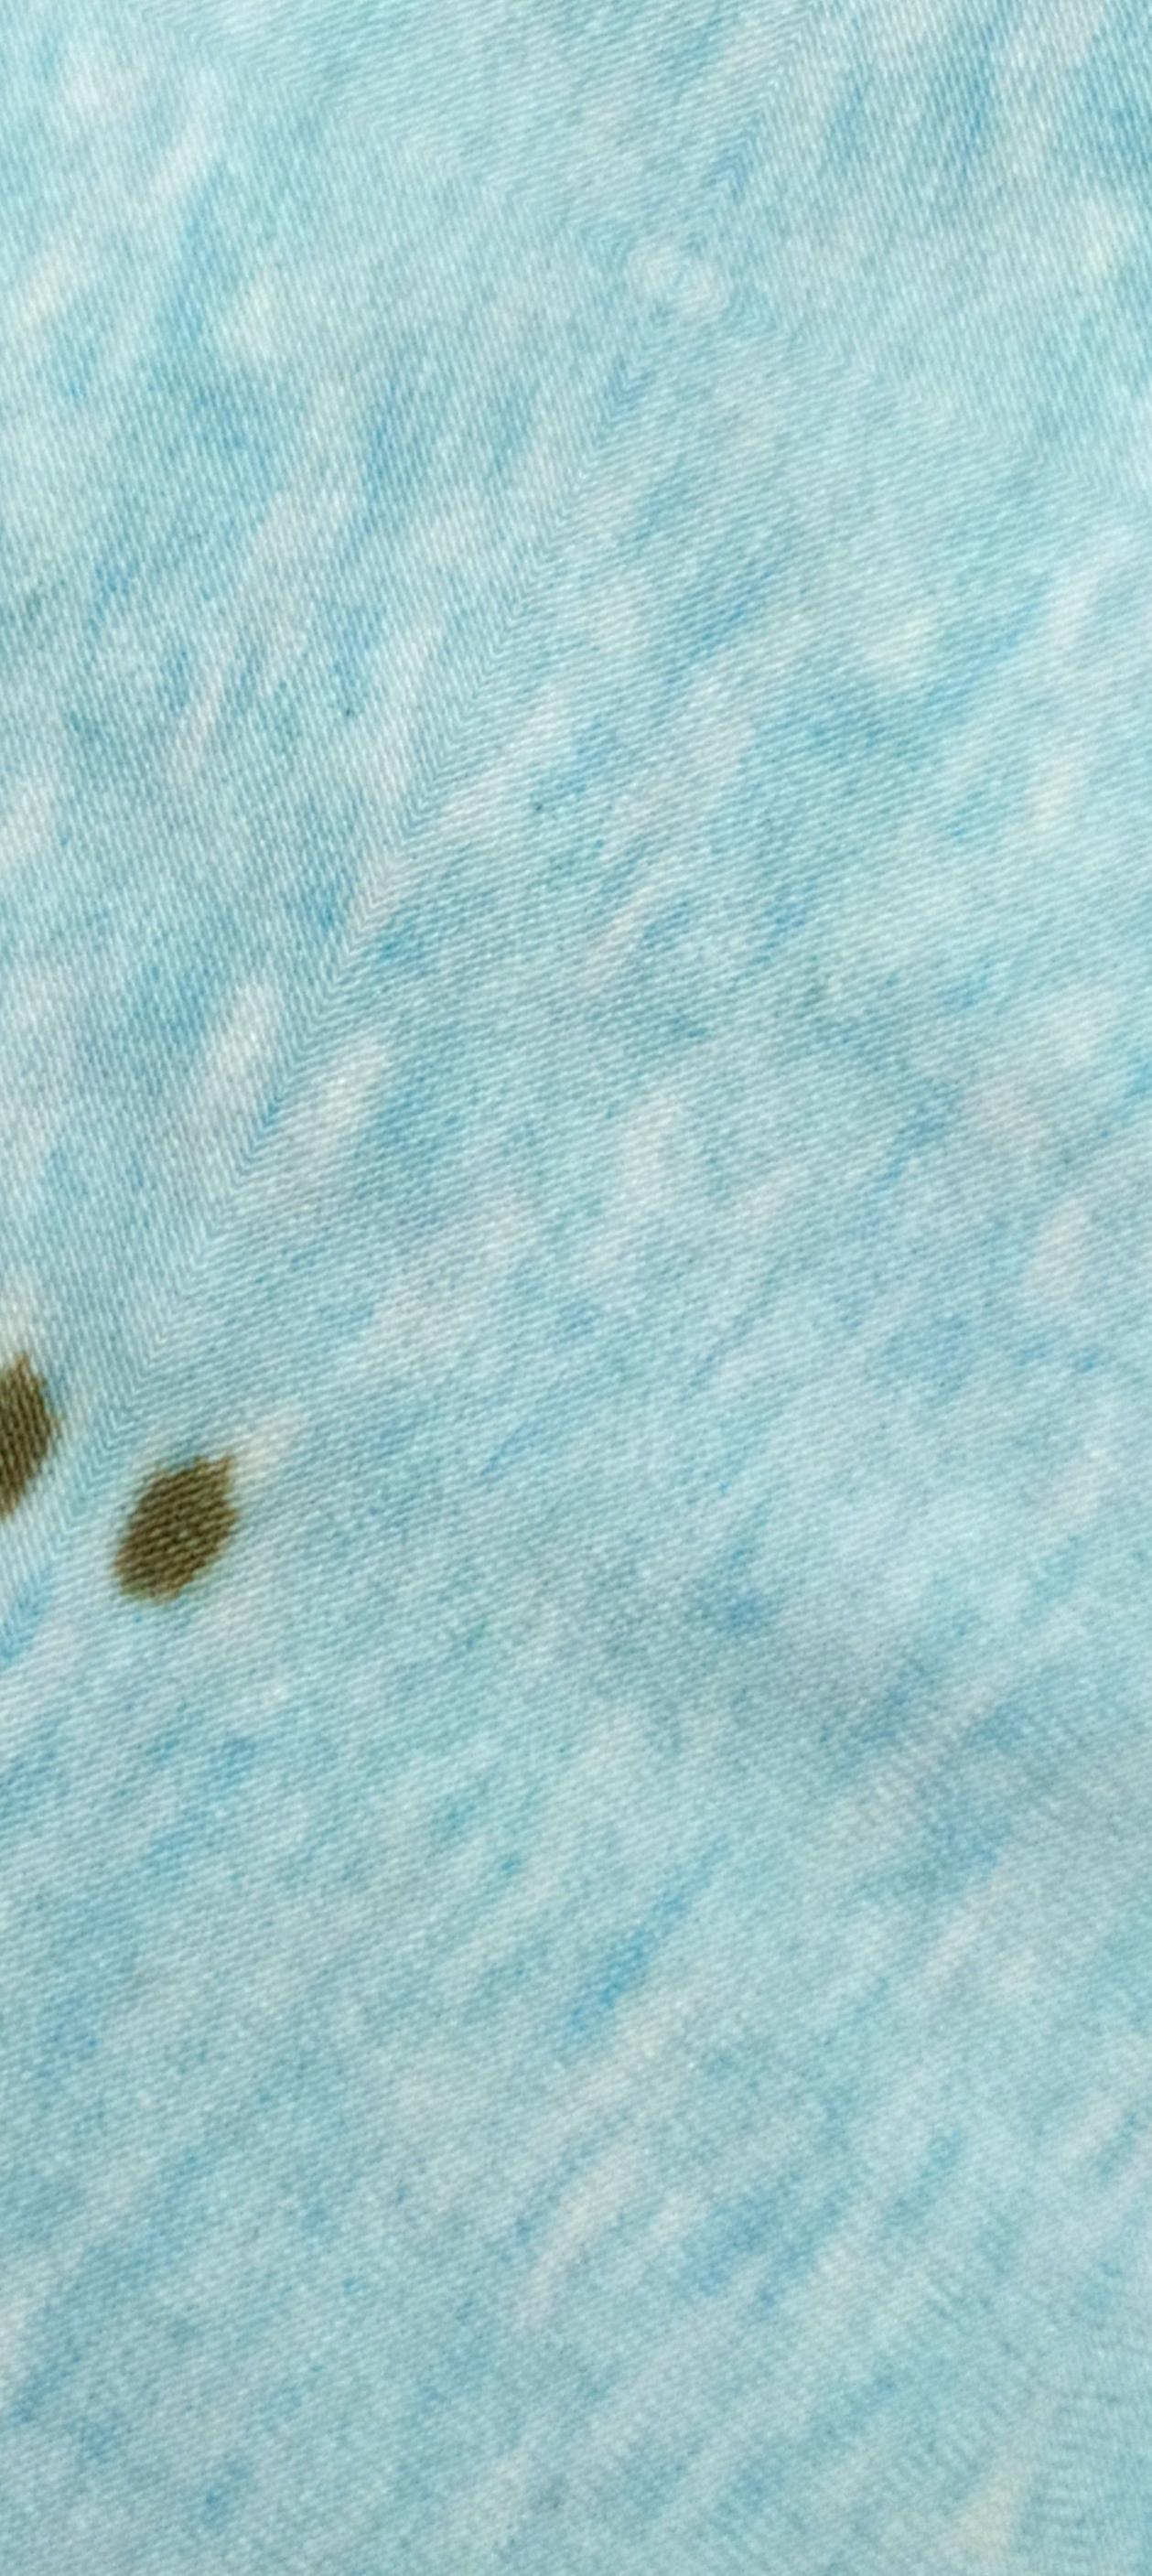stain: (107, 1434, 270, 1621), (5, 1322, 64, 1528)
